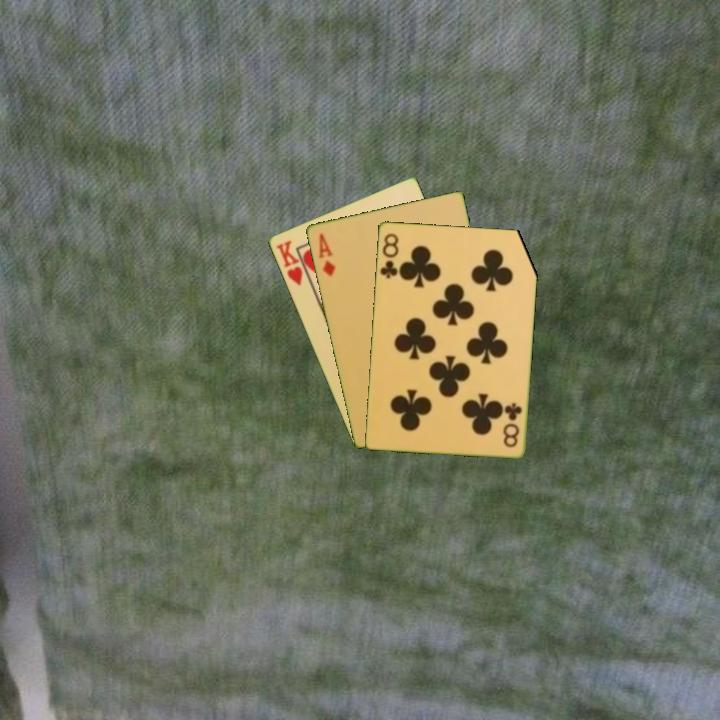8c: (376, 230, 401, 281), (500, 399, 525, 450)
Ad: (314, 229, 338, 279)
Kh: (272, 237, 313, 289)
